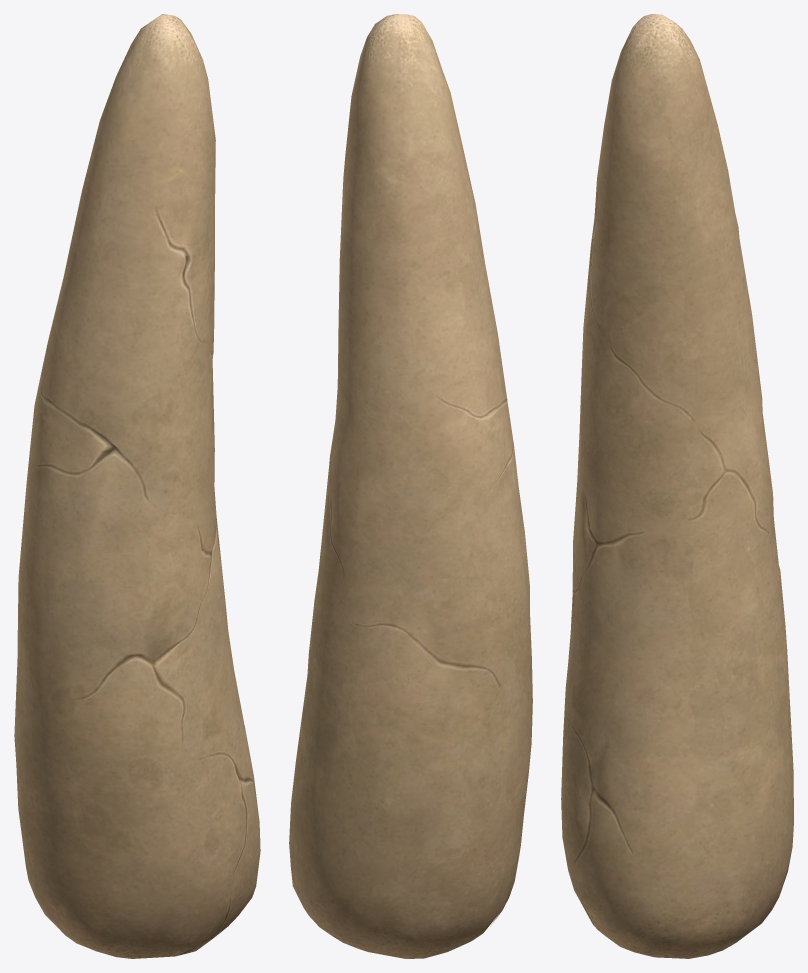
The picture shows the model from 3 angles, left to right: view 1: azimuth 30°, elevation 25°; view 2: azimuth 150°, elevation 25°; view 3: azimuth 270°, elevation 25°; orthographic projection.
Visible parts, largest first — view 1: tb_bone_02c; view 2: tb_bone_02c; view 3: tb_bone_02c.
Boxes of the visible parts, x1,y1,x2,y2 form: tb_bone_02c: [14, 14, 260, 958]; tb_bone_02c: [289, 14, 532, 958]; tb_bone_02c: [561, 14, 793, 958].
Size of the model in its own units: 1.27 by 5.19 by 1.17.
1 material, 1 textured.
